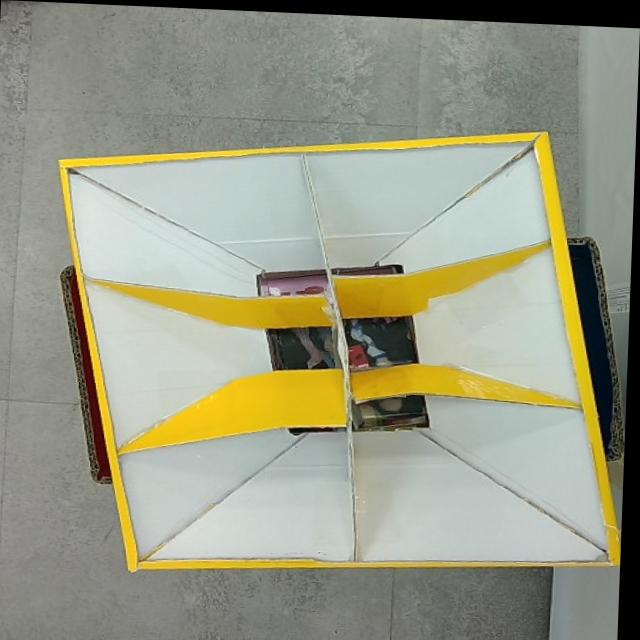box: (45, 108, 637, 586)
